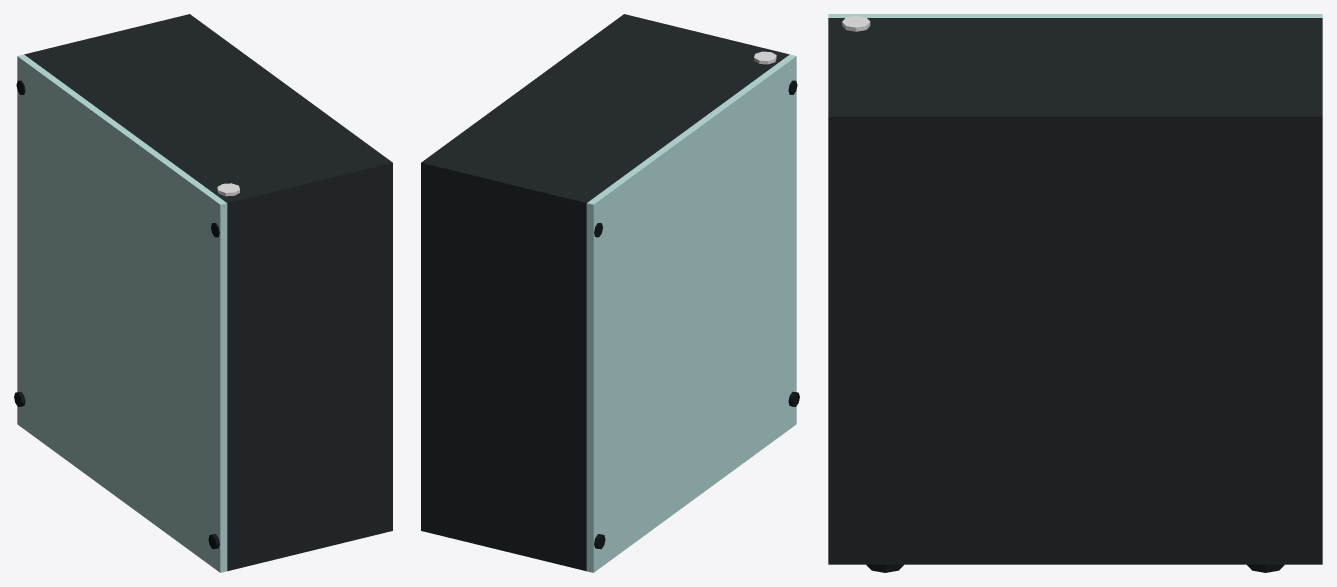
Rendered from SM_Props_PC_01.fbx.
3 views of the same model, side by side, from view 1: azimuth 30°, elevation 25°; view 2: azimuth 150°, elevation 25°; view 3: azimuth 270°, elevation 25° (orthographic). The views are drawn at different scales.
Parts seen in each view (by area): view 1: SM_Props_PC_01; view 2: SM_Props_PC_01; view 3: SM_Props_PC_01.
Boxes of the visible parts, bbox=[...] form: SM_Props_PC_01: bbox=[14, 14, 392, 572]; SM_Props_PC_01: bbox=[421, 14, 799, 572]; SM_Props_PC_01: bbox=[828, 14, 1322, 572].
Bounding box in the file's own units: 0.2605 × 0.5447 × 0.52.
